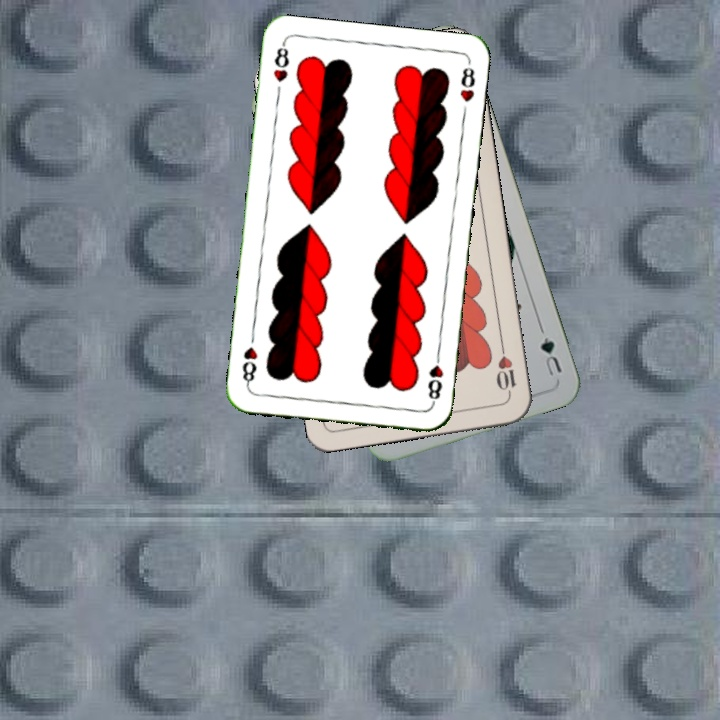GU: (536, 333, 565, 380)
H10: (493, 339, 519, 398)
H8: (424, 347, 446, 407), (269, 40, 292, 85)
